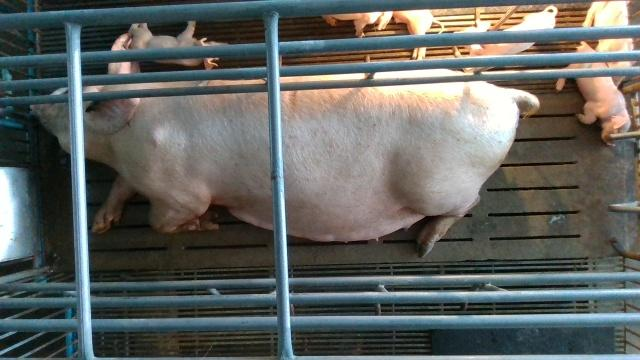piglet: (555, 40, 631, 146), (130, 21, 230, 70), (580, 2, 636, 87), (470, 6, 559, 56), (377, 10, 444, 59), (323, 10, 396, 36)
sow-sleep: (31, 31, 543, 259)
